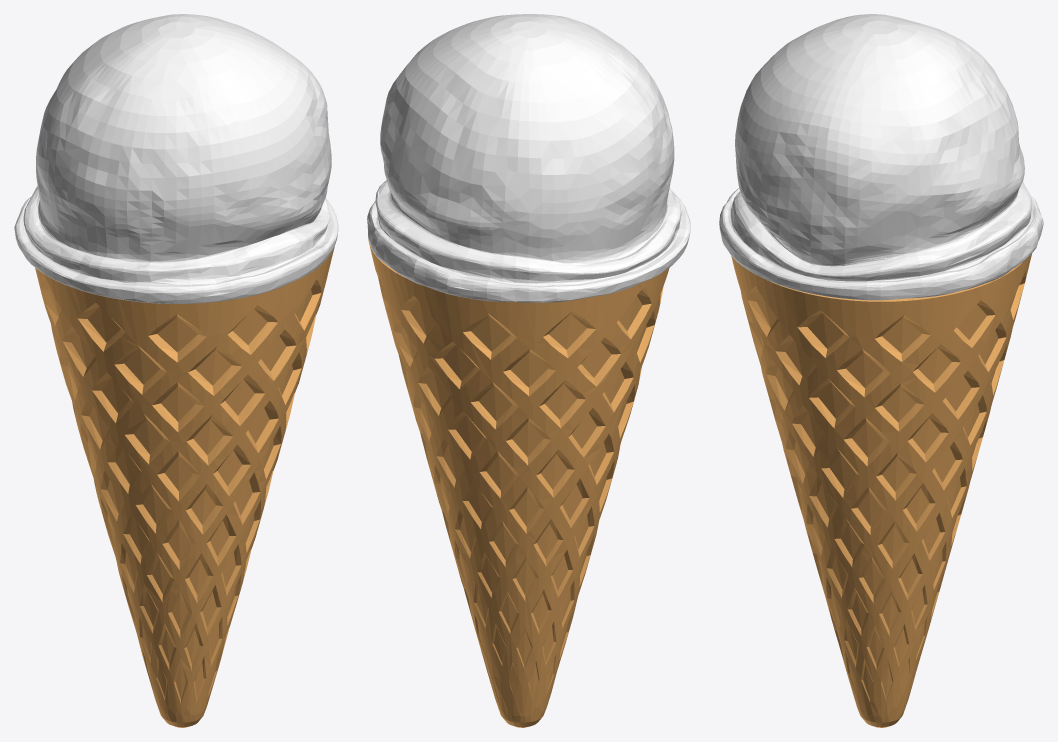
File: Ice Cream.fbx
3 renders of one model, left to right at view 1: azimuth 30°, elevation 25°; view 2: azimuth 150°, elevation 25°; view 3: azimuth 270°, elevation 25°, orthographic.
Visible parts, largest first — view 1: Origin; view 2: Origin; view 3: Origin.
Part boxes in pixels (x1=…): Origin: x1=14, y1=14, x2=338, y2=727; Origin: x1=367, y1=14, x2=690, y2=727; Origin: x1=719, y1=14, x2=1043, y2=727.
Bounding box in the file's own units: 195 × 464 × 196.
